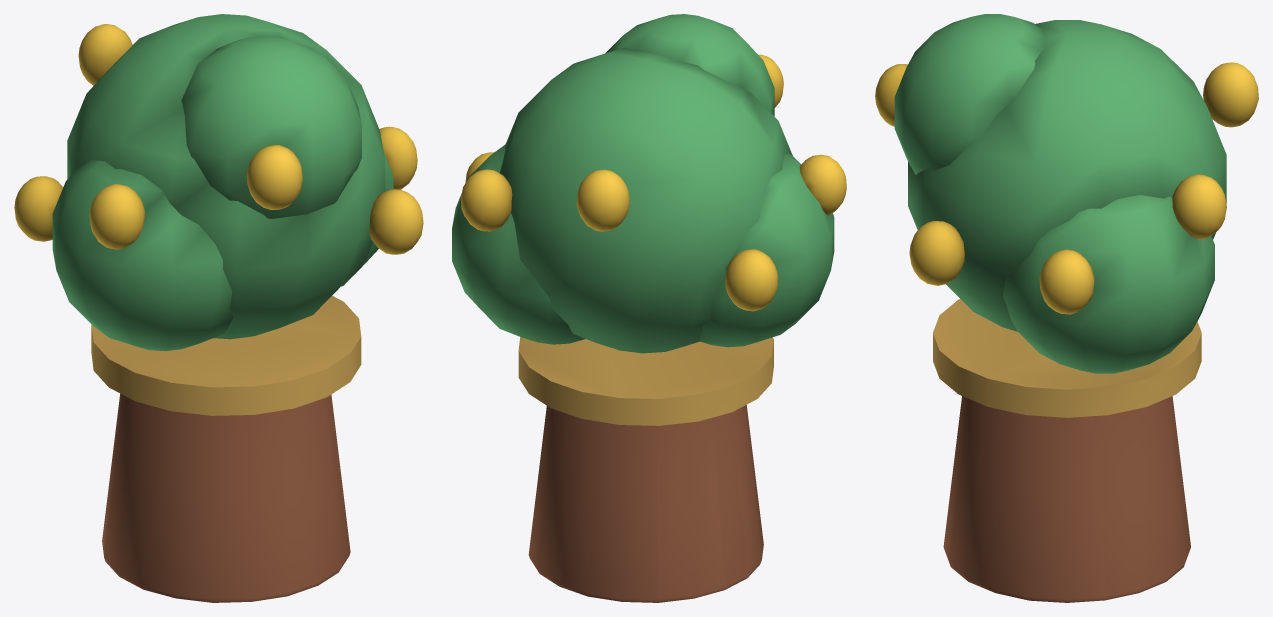
The model's file is gift-rosa.glb.
The picture shows the model from 3 angles, left to right: view 1: azimuth 30°, elevation 25°; view 2: azimuth 150°, elevation 25°; view 3: azimuth 270°, elevation 25°; orthographic projection. The views are drawn at different scales.
Visible parts, largest first — view 1: gift-rosa; view 2: gift-rosa; view 3: gift-rosa.
Boxes of the visible parts, box(x1,y1,x2,y2) form: gift-rosa: box(14, 14, 423, 602); gift-rosa: box(452, 14, 846, 602); gift-rosa: box(875, 14, 1258, 602).
Size of the model in its own units: 0.6612 by 0.94 by 0.6167.
